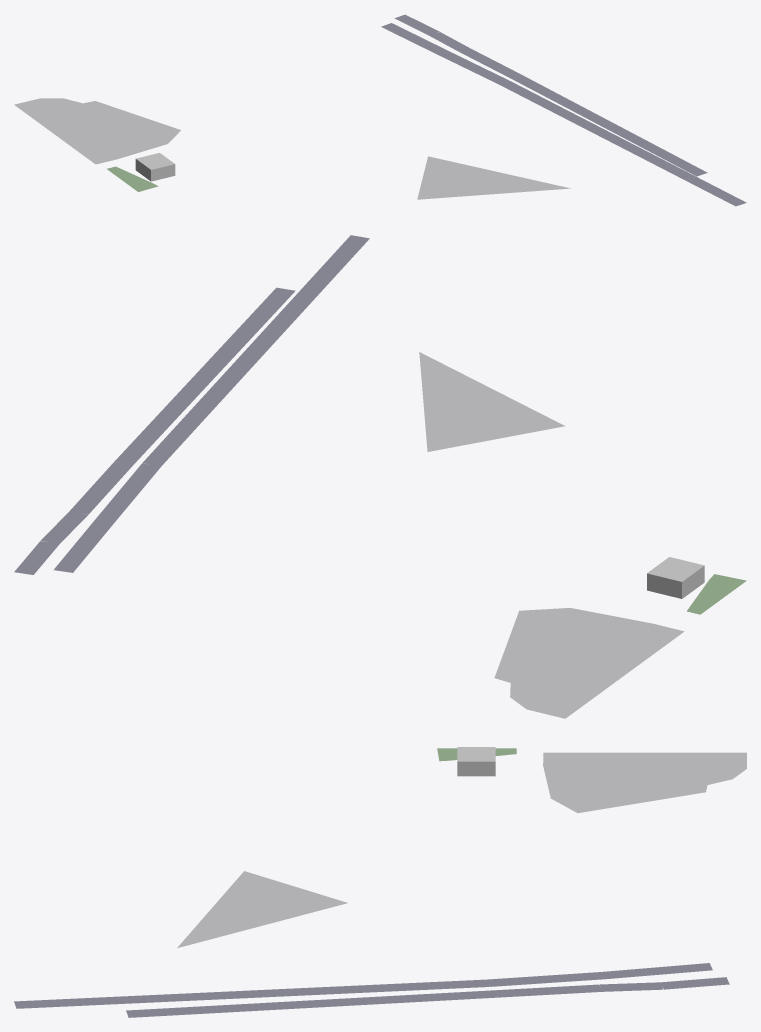
The model's file is 123_116_mid.glb.
3 views of the same model, one above another, from view 1: azimuth 30°, elevation 25°; view 2: azimuth 150°, elevation 25°; view 3: azimuth 270°, elevation 25° (orthographic). The views are drawn at different scales.
Bounding box in the file's own units: 506 × 16.04 × 579.
